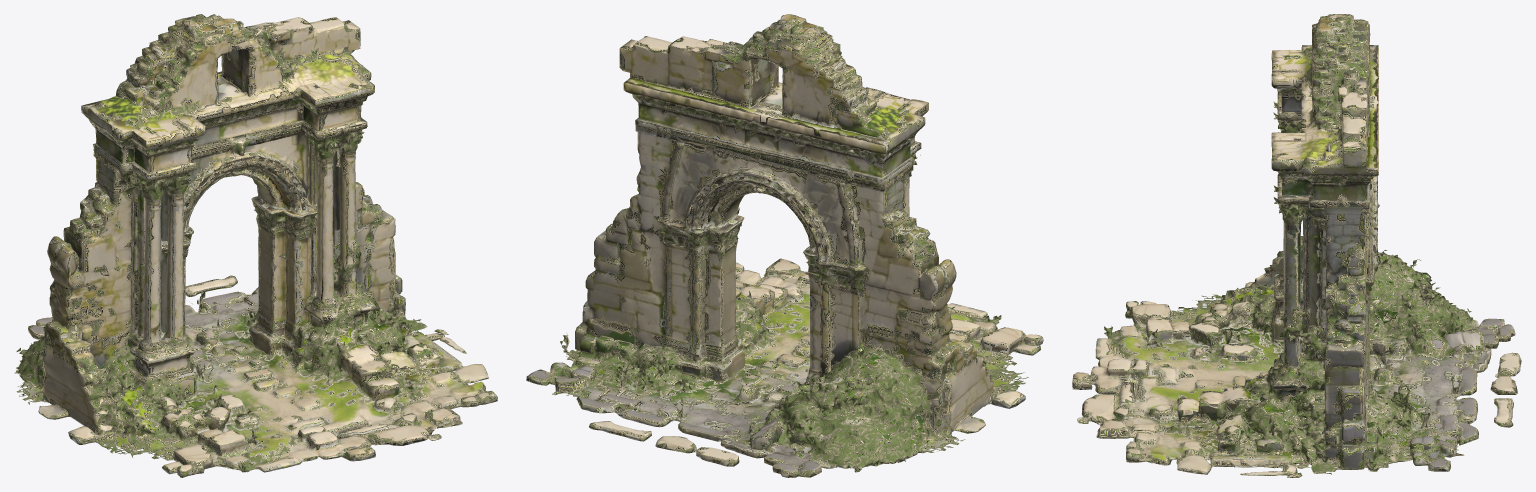
The model's file is gate__ruined-archway.glb.
The picture shows the model from 3 angles, left to right: view 1: azimuth 30°, elevation 25°; view 2: azimuth 150°, elevation 25°; view 3: azimuth 270°, elevation 25°; orthographic projection. The views are drawn at different scales.
Size of the model in its own units: 1.9 by 1.63 by 1.88.
Materials: 1 (1 with a texture image).
